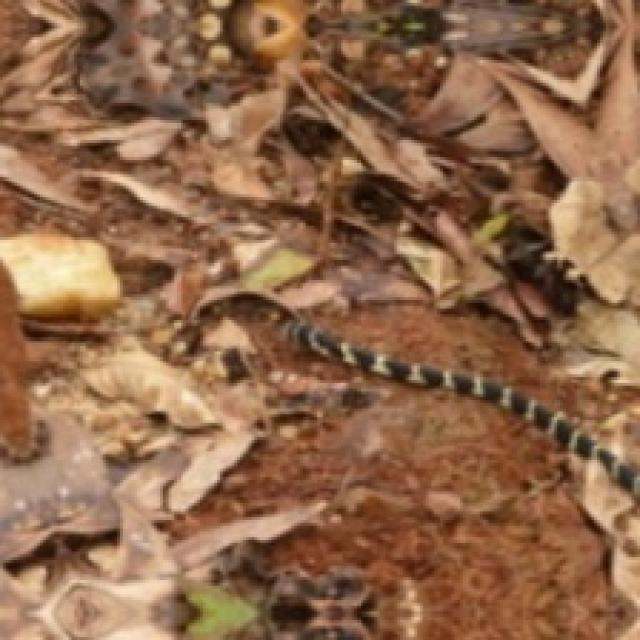king cobra: (280, 317, 637, 637), (289, 317, 637, 637)
